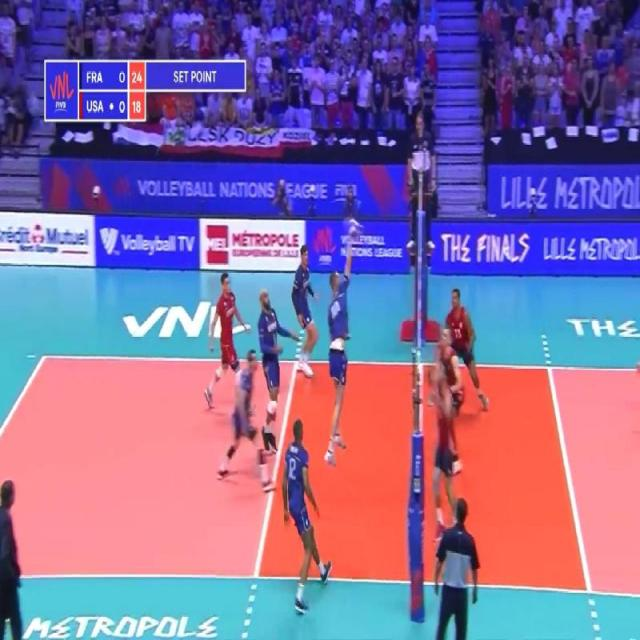volleyball: (348, 220, 362, 242)
